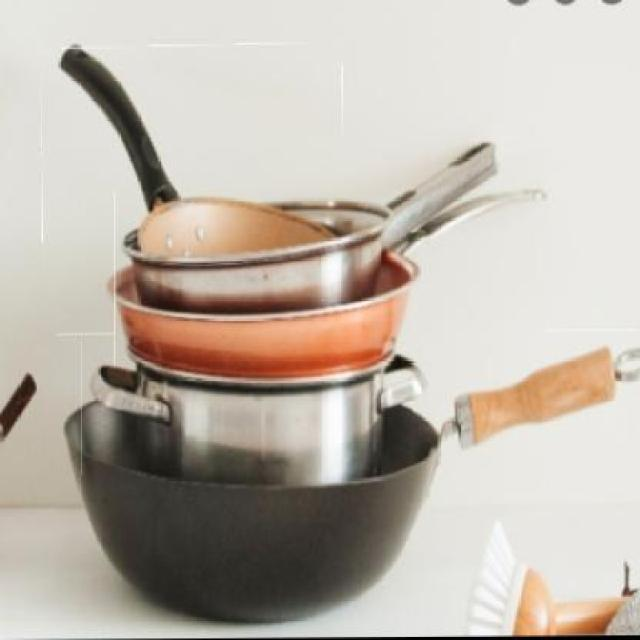pot: (57, 331, 638, 594), (114, 189, 546, 367), (42, 44, 344, 264), (148, 136, 492, 304), (80, 340, 414, 477)
